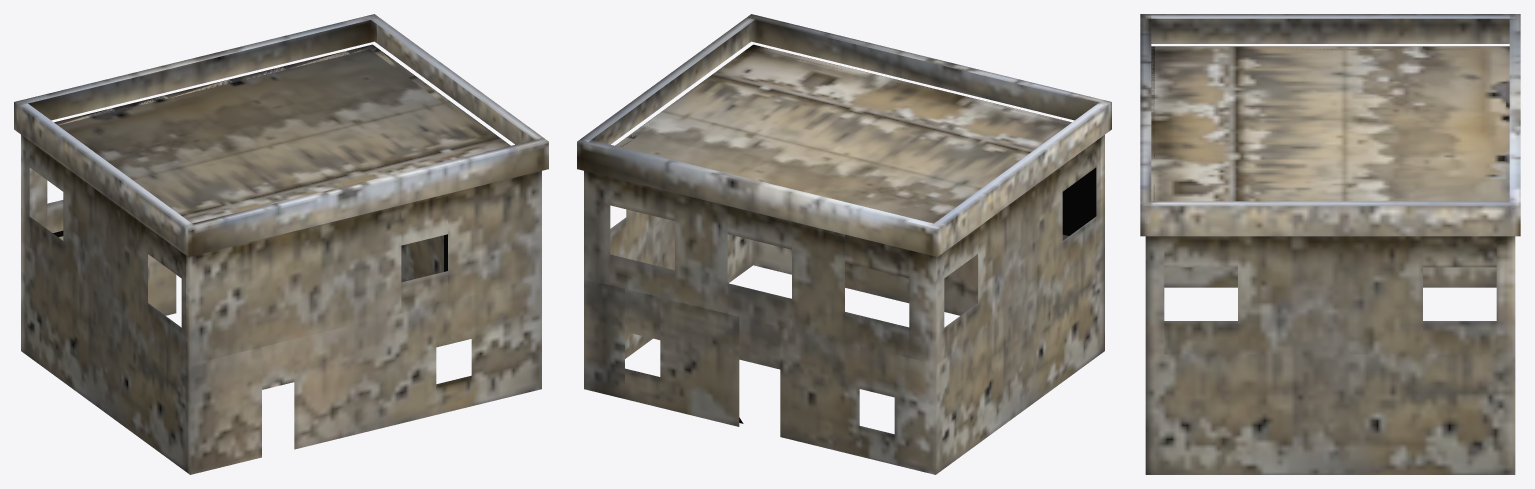
The model's file is skin_airfield_40_112.glb.
3 views of the same model, side by side, from view 1: azimuth 30°, elevation 25°; view 2: azimuth 150°, elevation 25°; view 3: azimuth 270°, elevation 25° (orthographic). The views are drawn at different scales.
Parts seen in each view (by area): view 1: airfield_40_112; view 2: airfield_40_112; view 3: airfield_40_112.
Part boxes in pixels (x1=…): airfield_40_112: x1=14, y1=14, x2=548, y2=474; airfield_40_112: x1=577, y1=14, x2=1111, y2=474; airfield_40_112: x1=1140, y1=14, x2=1520, y2=474.
Bounding box in the file's own units: 12.3 × 8.1 × 10.3.
Materials: 1 (1 with a texture image).
